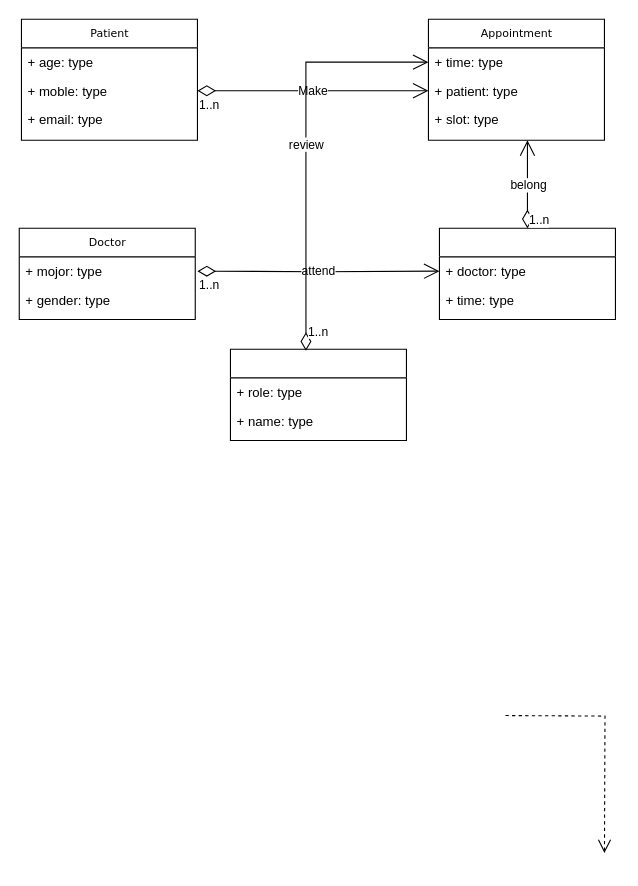
The diagram is 638 pixels wide and 886 high, and some of its shapes have lost their labels. Each missing label, with the box of its shape:
Admin: (229, 348, 406, 441)
Slot: (438, 227, 615, 320)
